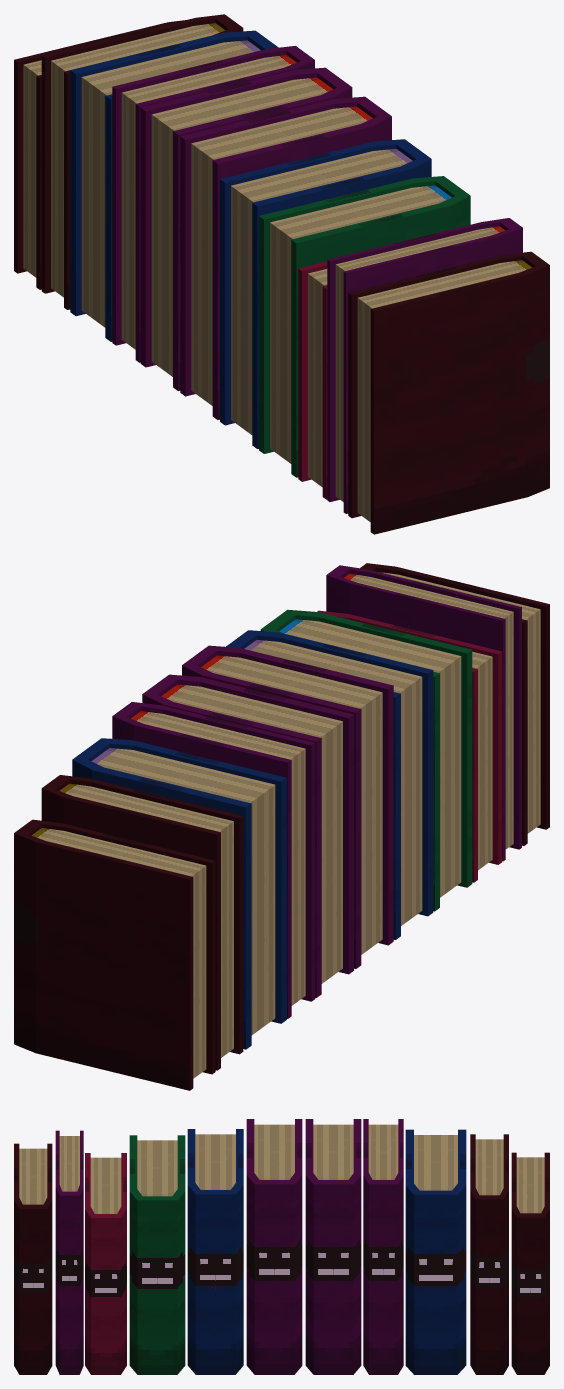
The model's file is E_Books.2.fbx.
3 renders of one model, top to bottom at view 1: azimuth 30°, elevation 25°; view 2: azimuth 150°, elevation 25°; view 3: azimuth 270°, elevation 25°, orthographic. The views are drawn at different scales.
Visible parts, largest first — view 1: Cube.002; view 2: Cube.002; view 3: Cube.002.
Part boxes in pixels (bbox=[...]): Cube.002: bbox=[14, 14, 549, 534]; Cube.002: bbox=[14, 563, 549, 1090]; Cube.002: bbox=[14, 1119, 549, 1374].
Size of the model in its own units: 37.81 by 51.57 by 131.
